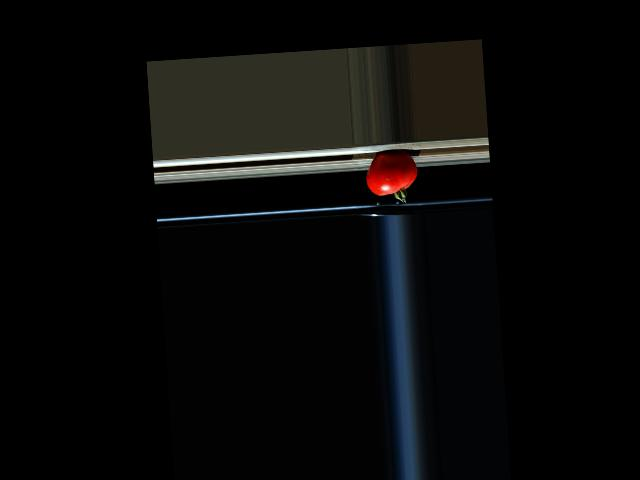tomato: (365, 150, 419, 205)
